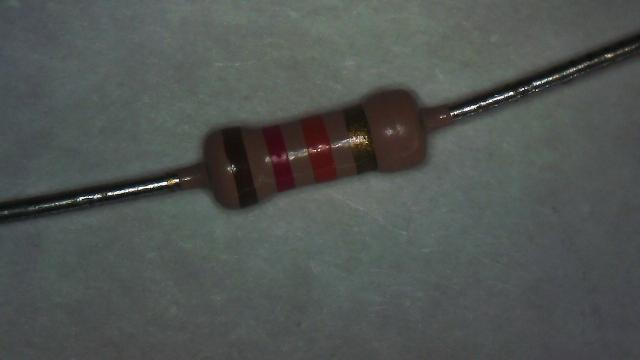brown: (218, 130, 256, 200)
gold: (345, 107, 378, 172)
orange: (302, 117, 338, 179)
red: (265, 129, 294, 185)
resistor: (171, 70, 466, 245)
